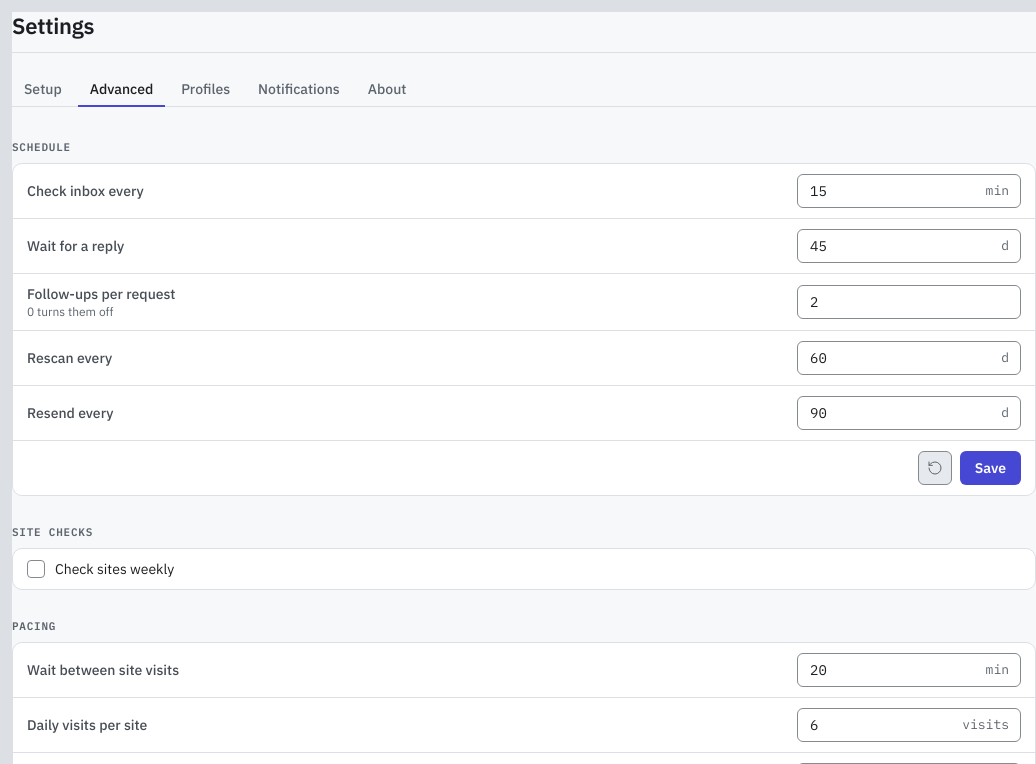
Scenario: general settings › resets the form to what is saved
Replace the text in the number field labelled "Check inbox every" with "99" at (909, 191), box [797, 174, 1021, 208]
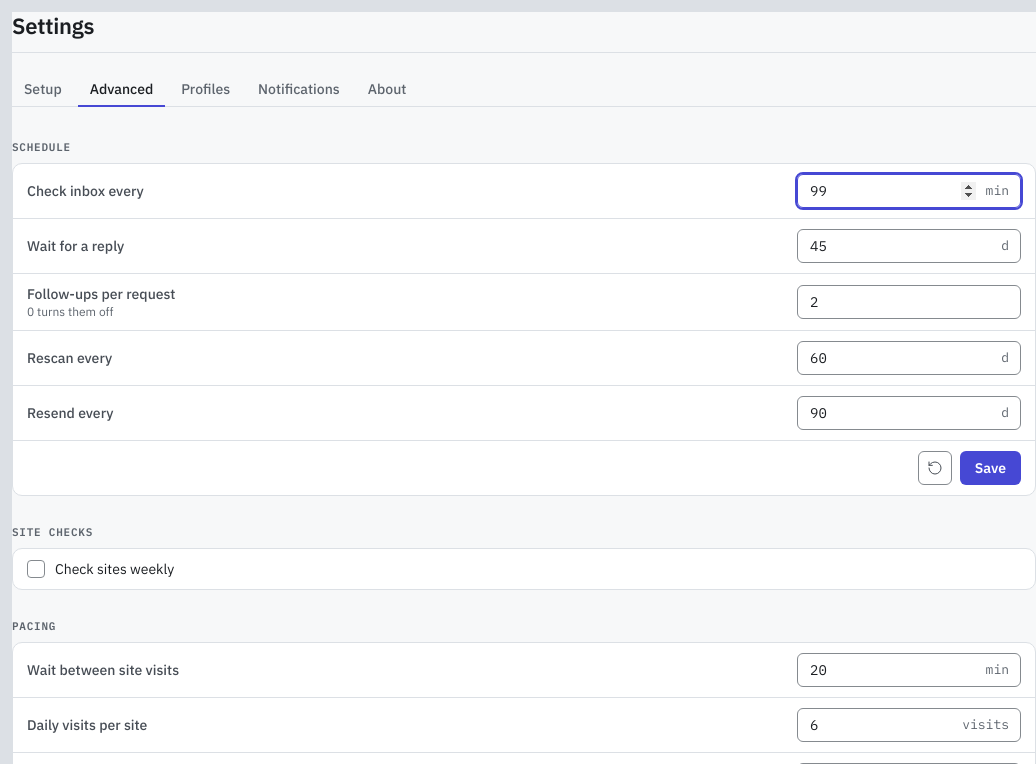
Click the button named "Reset to saved" at (935, 468), box [918, 451, 952, 485]
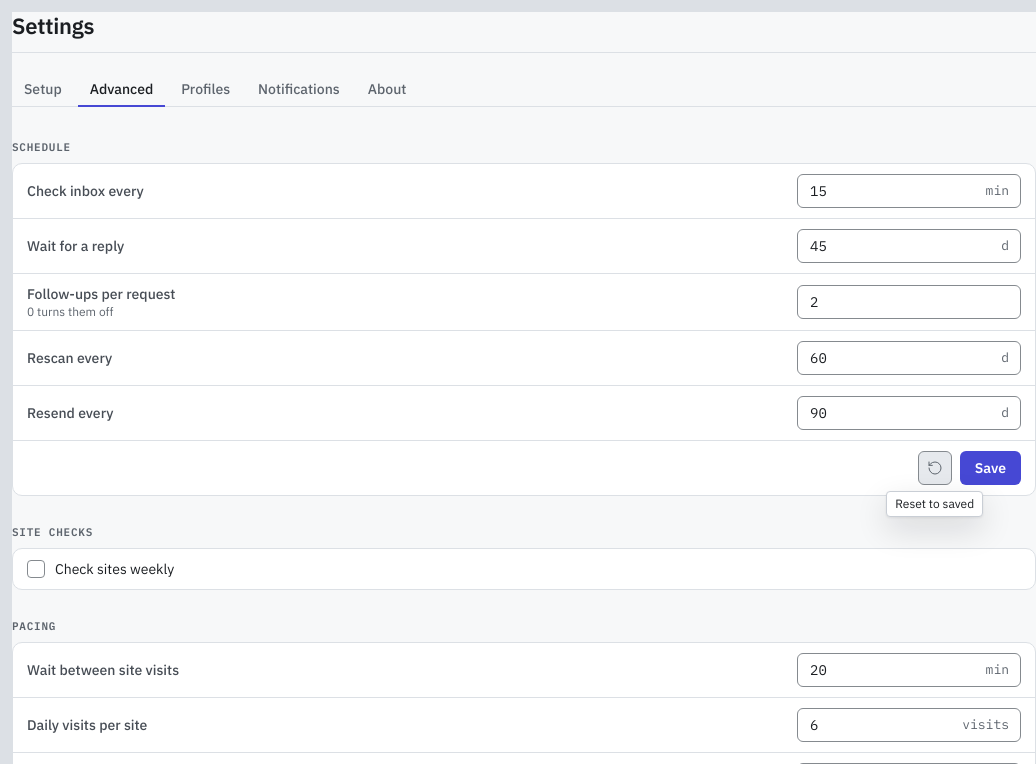
Now the number field labelled "Check inbox every" holds "15", box [797, 174, 1021, 208]
